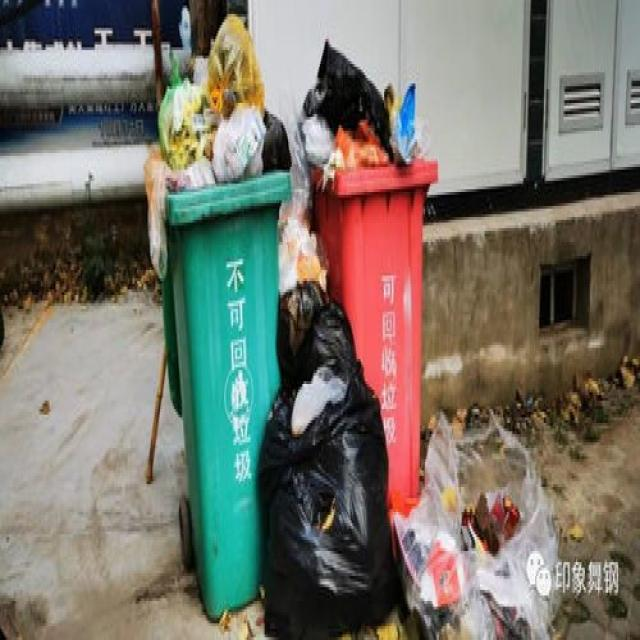garbage: (256, 212, 563, 637)
overflow: (140, 3, 290, 620), (301, 39, 438, 504)
